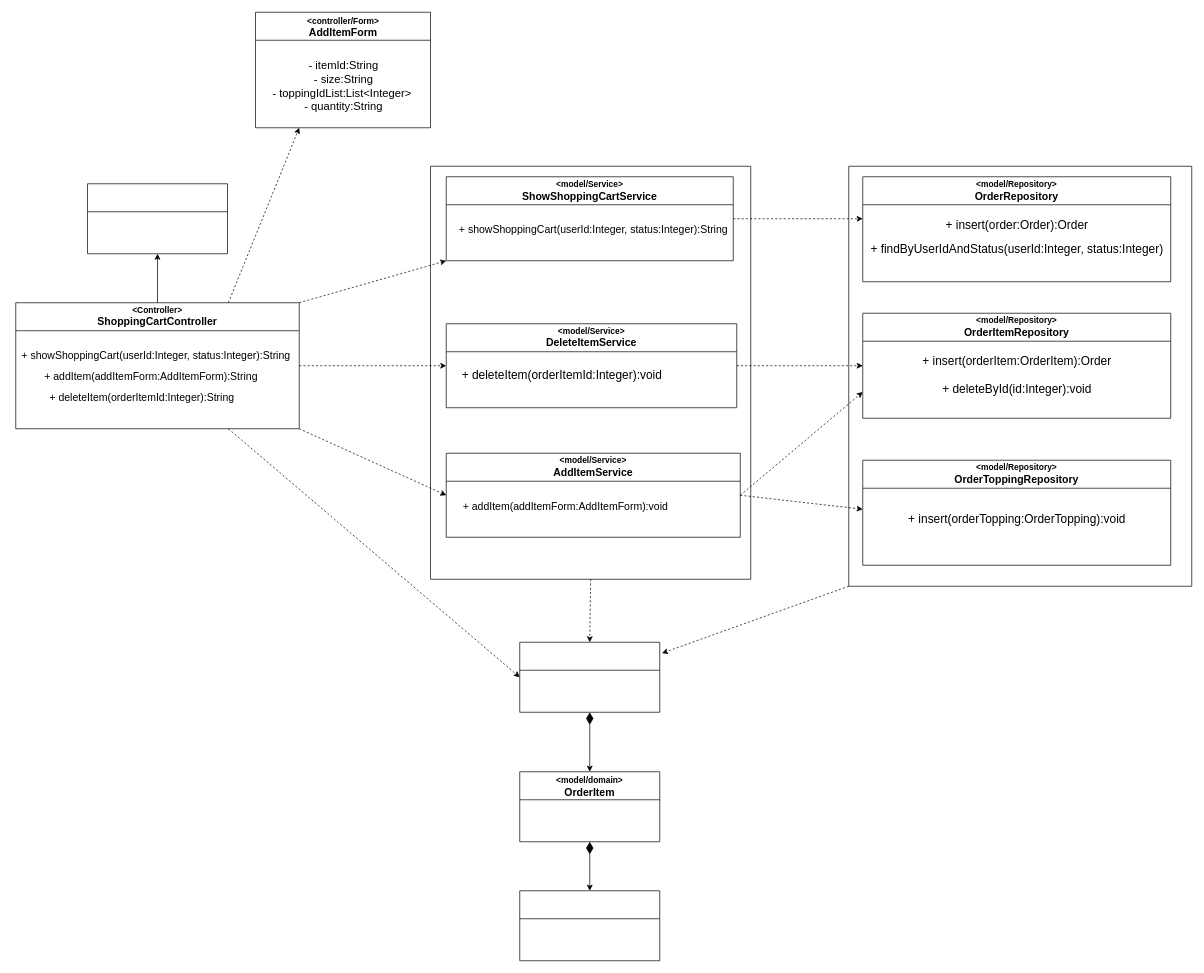
The diagram is 1204 pixels wide and 973 high, and some of its shapes have lost their labels. Here are the shapes that lost their labels. From the top down, the centre of each, then its label:
the point at 157,218: <view> cart_list.html
the point at 589,677: <model/domain> Order
the point at 589,925: <model/domain> OrderTopping
